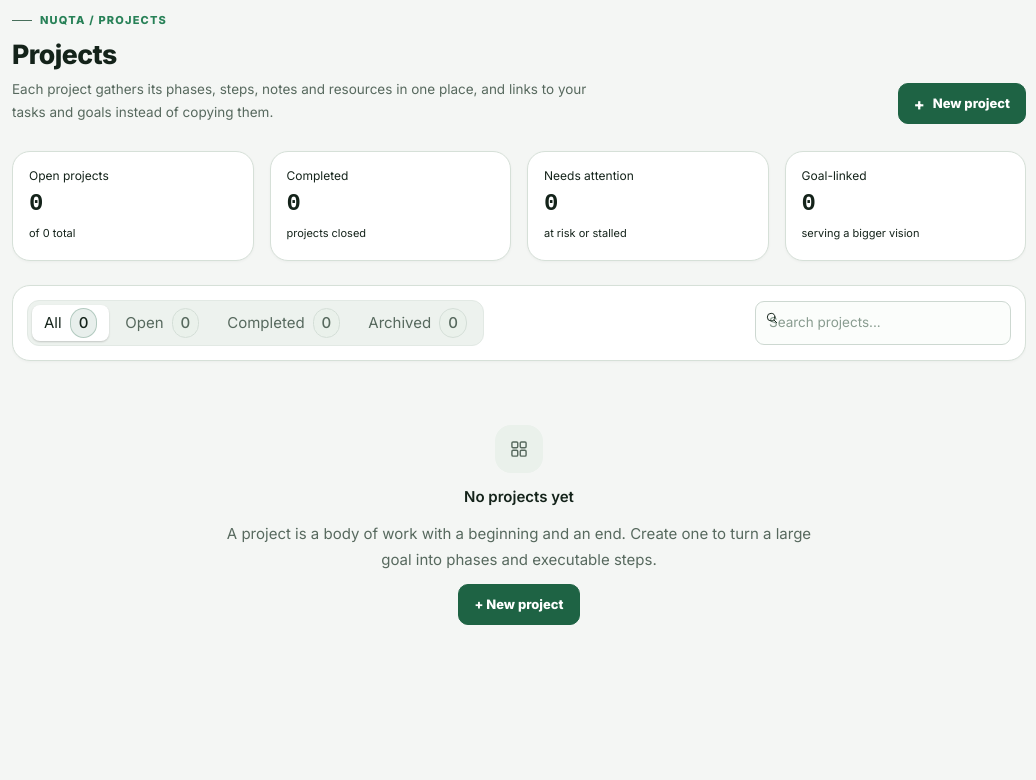
Scenario: ProjectsView — the hub › creates a project from the inline form and opens it
Click the 1st button "+ New project" at (962, 104), box [898,83,1026,124]
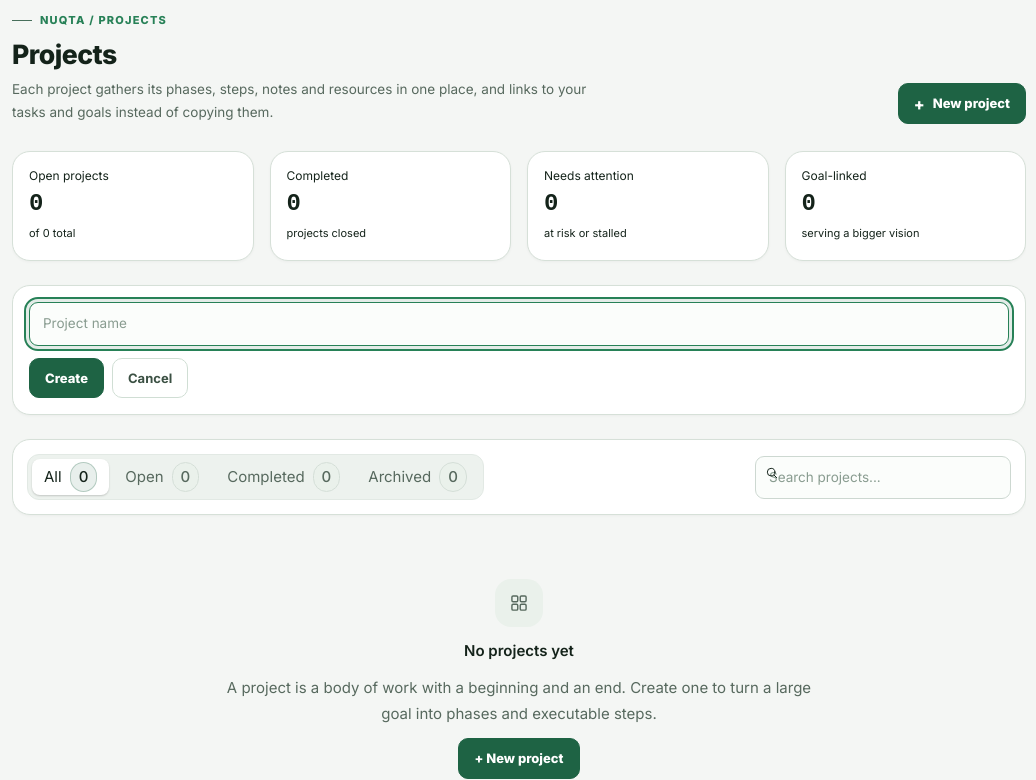
Type "Ship it" into the field with placeholder "Project name" at (519, 324), box [29,302,1009,346]
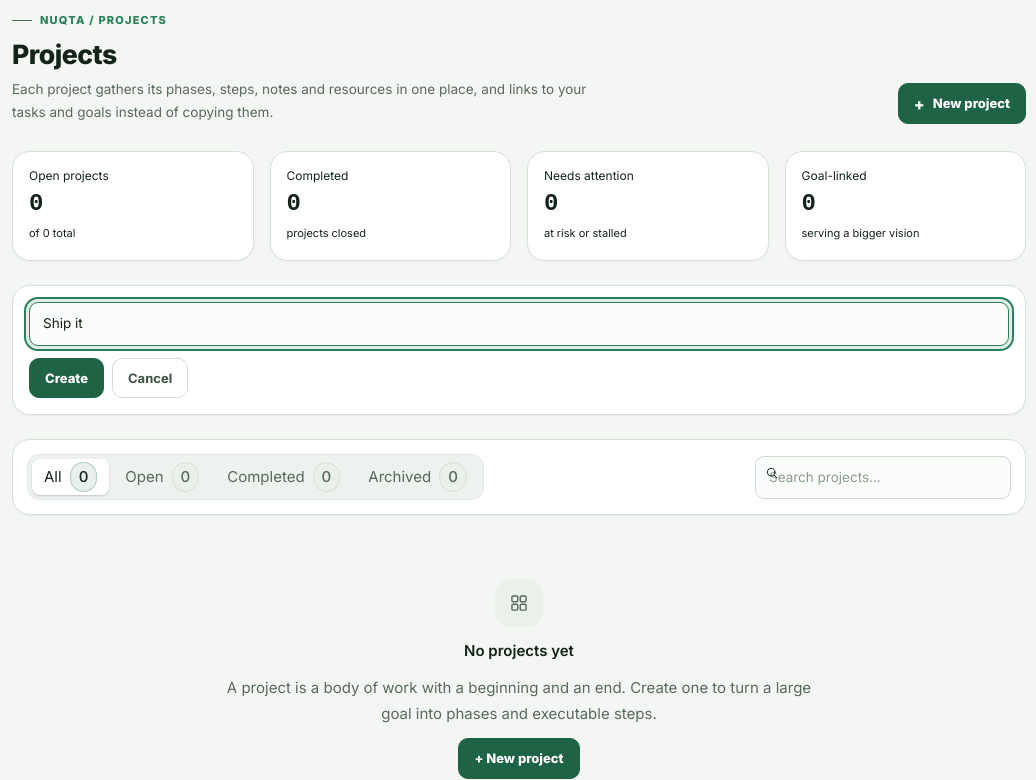
Click the button "Create" at (66, 378), box [29,358,104,398]
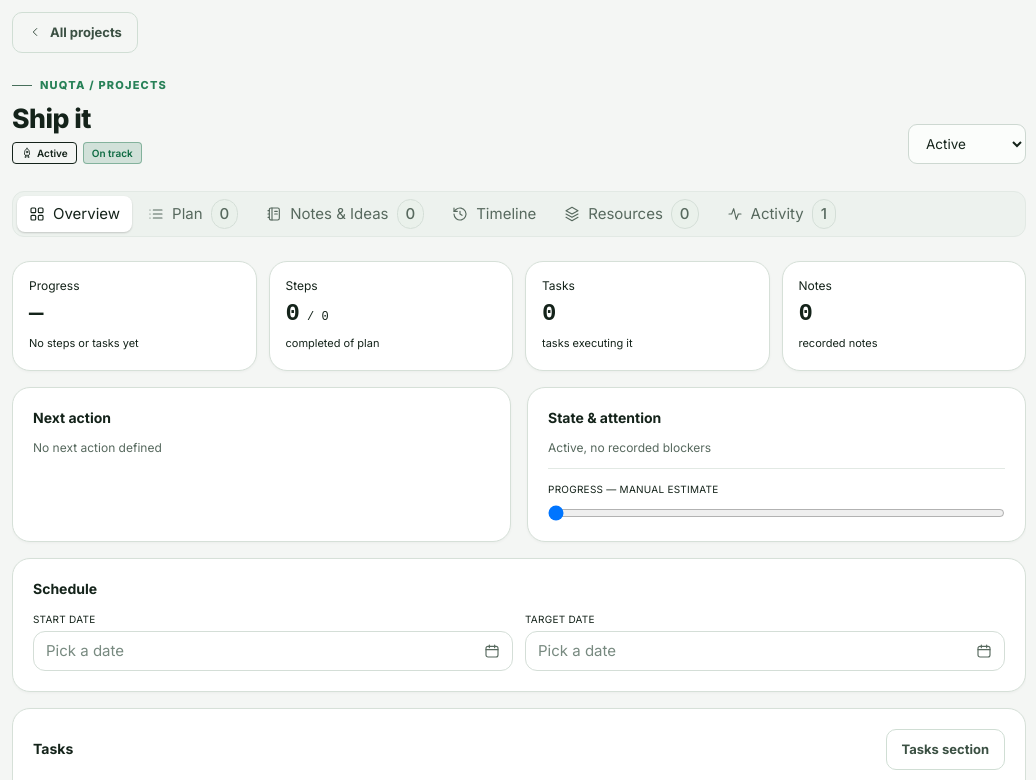
Now the heading "Ship it" is shown, box [12,102,91,134]
Now the button "All projects" is shown, box [12,12,138,53]
